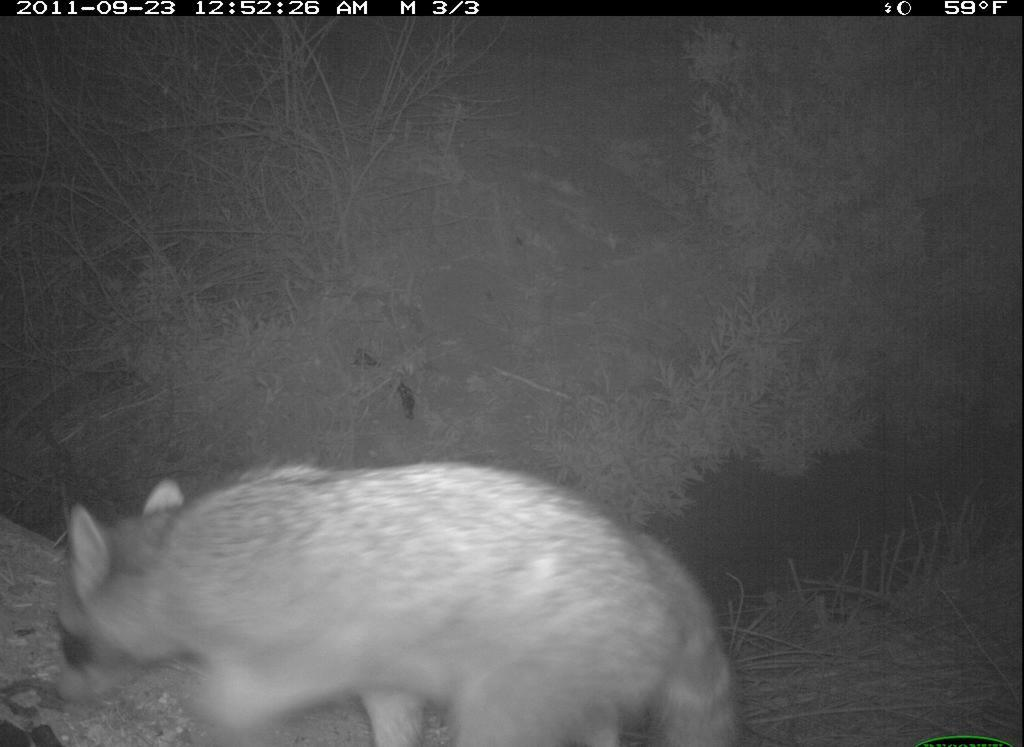raccoon: (57, 455, 742, 739)
